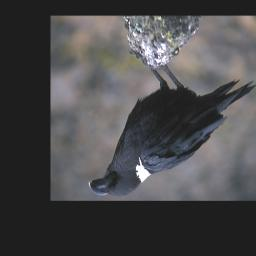Crow: (87, 47, 256, 197)
